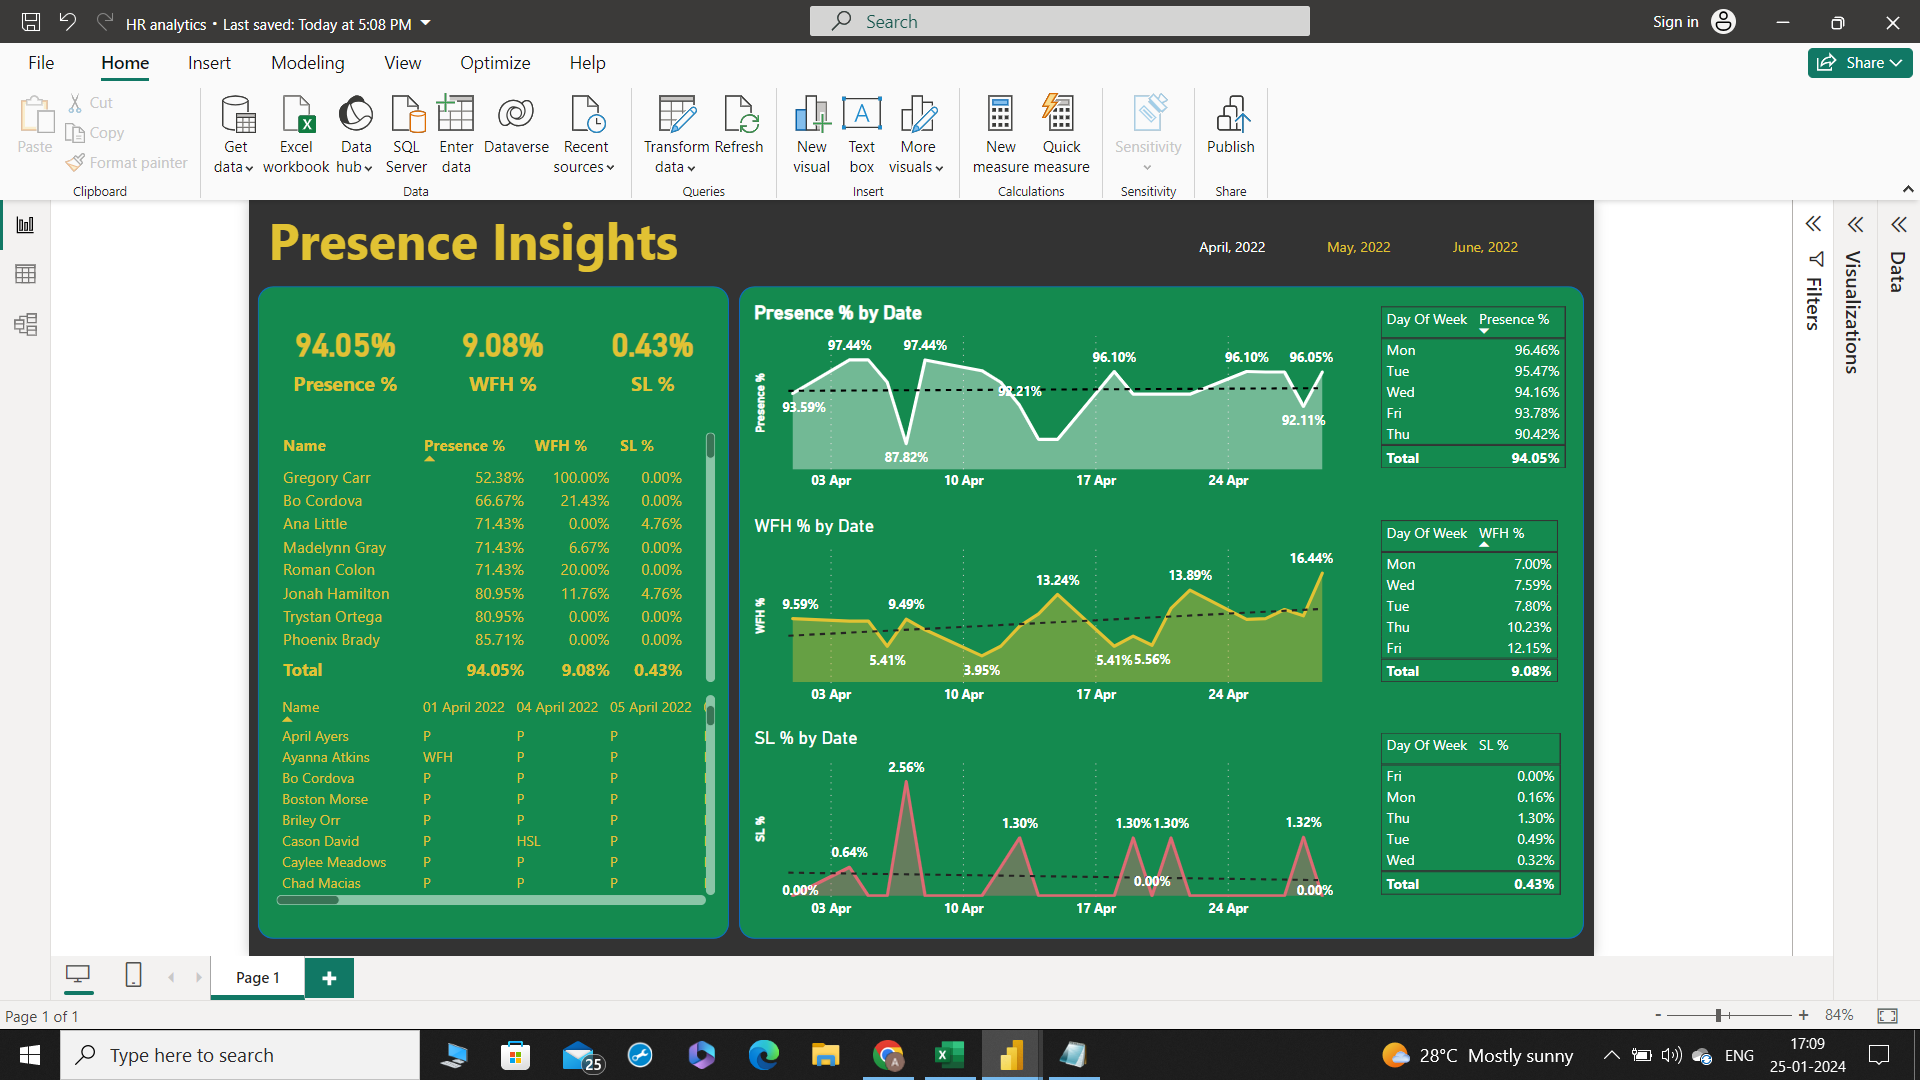

The page's visual inventory and layout, read from the dashboard file:
{"tool":"powerbi","page":{"name":"Page 1","canvas":[1280,720],"ordinal":0},"visuals":[{"type":"shape","box":[8.3,82.1,448.7,621.2],"z":0},{"type":"shape","box":[466.5,82.1,804.5,621.2],"z":1000},{"type":"card","fields":{"Values":["Measure Table.Presence %"]},"box":[21.4,96.4,140.4,104.7],"z":2000},{"type":"slicer","fields":{"Values":["Final Data.Month"]},"box":[850.9,15.5,409.4,58.3],"z":3000},{"type":"card","fields":{"Values":["Measure Table.WFH %"]},"box":[185.7,96.4,111.9,104.7],"z":4000},{"type":"card","fields":{"Values":["Measure Table.SL %"]},"box":[320.1,96.4,128.5,104.7],"z":5000},{"type":"tableEx","fields":{"Values":["Final Data.Name","Measure Table.Presence %","Measure Table.WFH %","Measure Table.SL %"]},"box":[21.4,216.6,427.2,247.5],"z":6000},{"type":"textbox","box":[0,0,427.2,80.9],"z":7000},{"type":"pivotTable","fields":{"Rows":["Final Data.Name"],"Columns":["Final Data.Date"],"Values":["Min(Final Data.Value)"]},"box":[21.4,466.5,427.2,209.5],"z":8000},{"type":"areaChart","fields":{"Y":["Measure Table.Presence %"],"Category":["Final Data.Date"]},"box":[476,96.4,570,189.2],"z":9000},{"type":"areaChart","fields":{"Y":["Measure Table.WFH %"],"Category":["Final Data.Date"]},"box":[476,299.9,570,189.2],"z":10000},{"type":"areaChart","fields":{"Y":["Measure Table.SL %"],"Category":["Final Data.Date"]},"box":[476,502.2,570,190.4],"z":11000},{"type":"tableEx","fields":{"Values":["Final Data.Day Of Week","Measure Table.Presence %"]},"box":[1071.1,96.4,189.2,174.9],"z":12000},{"type":"tableEx","fields":{"Values":["Final Data.Day Of Week","Measure Table.WFH %"]},"box":[1071.1,299.9,189.2,164.2],"z":13000},{"type":"tableEx","fields":{"Values":["Final Data.Day Of Week","Measure Table.SL %"]},"box":[1071.1,502.2,189.2,164.2],"z":14000}]}

Visuals, with their boxes on the page's 1280x720 design canvas (x1, y1, x2, y2). These are canvas units, not pixel positions in the 1920x1080 screenshot, which may show the page scaled, cropped or inside an application window:
shape: pyautogui.locateOnScreen(8, 82, 457, 703)
shape: pyautogui.locateOnScreen(466, 82, 1271, 703)
card - Measure Table.Presence %: pyautogui.locateOnScreen(21, 96, 162, 201)
slicer - Final Data.Month: pyautogui.locateOnScreen(851, 16, 1260, 74)
card - Measure Table.WFH %: pyautogui.locateOnScreen(186, 96, 298, 201)
card - Measure Table.SL %: pyautogui.locateOnScreen(320, 96, 449, 201)
tableEx - Final Data.Name x Measure Table.Presence %: pyautogui.locateOnScreen(21, 217, 449, 464)
textbox: pyautogui.locateOnScreen(0, 0, 427, 81)
pivotTable - Final Data.Name x Final Data.Date: pyautogui.locateOnScreen(21, 466, 449, 676)
areaChart - Measure Table.Presence % x Final Data.Date: pyautogui.locateOnScreen(476, 96, 1046, 286)
areaChart - Measure Table.WFH % x Final Data.Date: pyautogui.locateOnScreen(476, 300, 1046, 489)
areaChart - Measure Table.SL % x Final Data.Date: pyautogui.locateOnScreen(476, 502, 1046, 693)
tableEx - Final Data.Day Of Week x Measure Table.Presence %: pyautogui.locateOnScreen(1071, 96, 1260, 271)
tableEx - Final Data.Day Of Week x Measure Table.WFH %: pyautogui.locateOnScreen(1071, 300, 1260, 464)
tableEx - Final Data.Day Of Week x Measure Table.SL %: pyautogui.locateOnScreen(1071, 502, 1260, 666)
